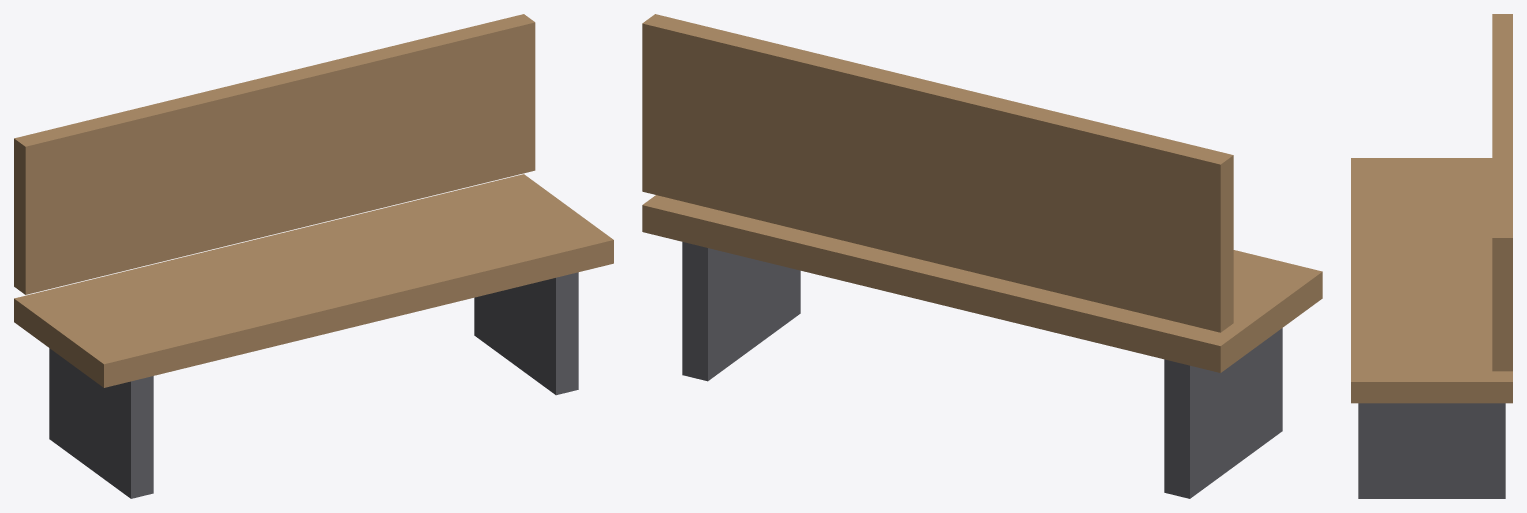
Rendered from street_bench_01_clean.glb.
3 views of the same model, side by side, from view 1: azimuth 30°, elevation 25°; view 2: azimuth 150°, elevation 25°; view 3: azimuth 270°, elevation 25° (orthographic). The views are drawn at different scales.
Visible parts, largest first — view 1: Cube.001, Cube, Cube.002, Cube.003; view 2: Cube.001, Cube, Cube.002, Cube.003; view 3: Cube, Cube.003, Cube.001.
Boxes of the visible parts, x1=… form: Cube.001: x1=14, y1=14, x2=535, y2=294; Cube: x1=14, y1=174, x2=613, y2=387; Cube.002: x1=49, y1=348, x2=153, y2=498; Cube.003: x1=474, y1=272, x2=578, y2=395; Cube.001: x1=642, y1=14, x2=1233, y2=332; Cube: x1=642, y1=195, x2=1322, y2=372; Cube.002: x1=1164, y1=328, x2=1282, y2=498; Cube.003: x1=682, y1=242, x2=800, y2=381; Cube: x1=1351, y1=158, x2=1512, y2=403; Cube.003: x1=1358, y1=403, x2=1505, y2=498; Cube.001: x1=1492, y1=14, x2=1512, y2=371.
Bounding box in the file's own units: 1.8 × 1.03 × 0.55.
